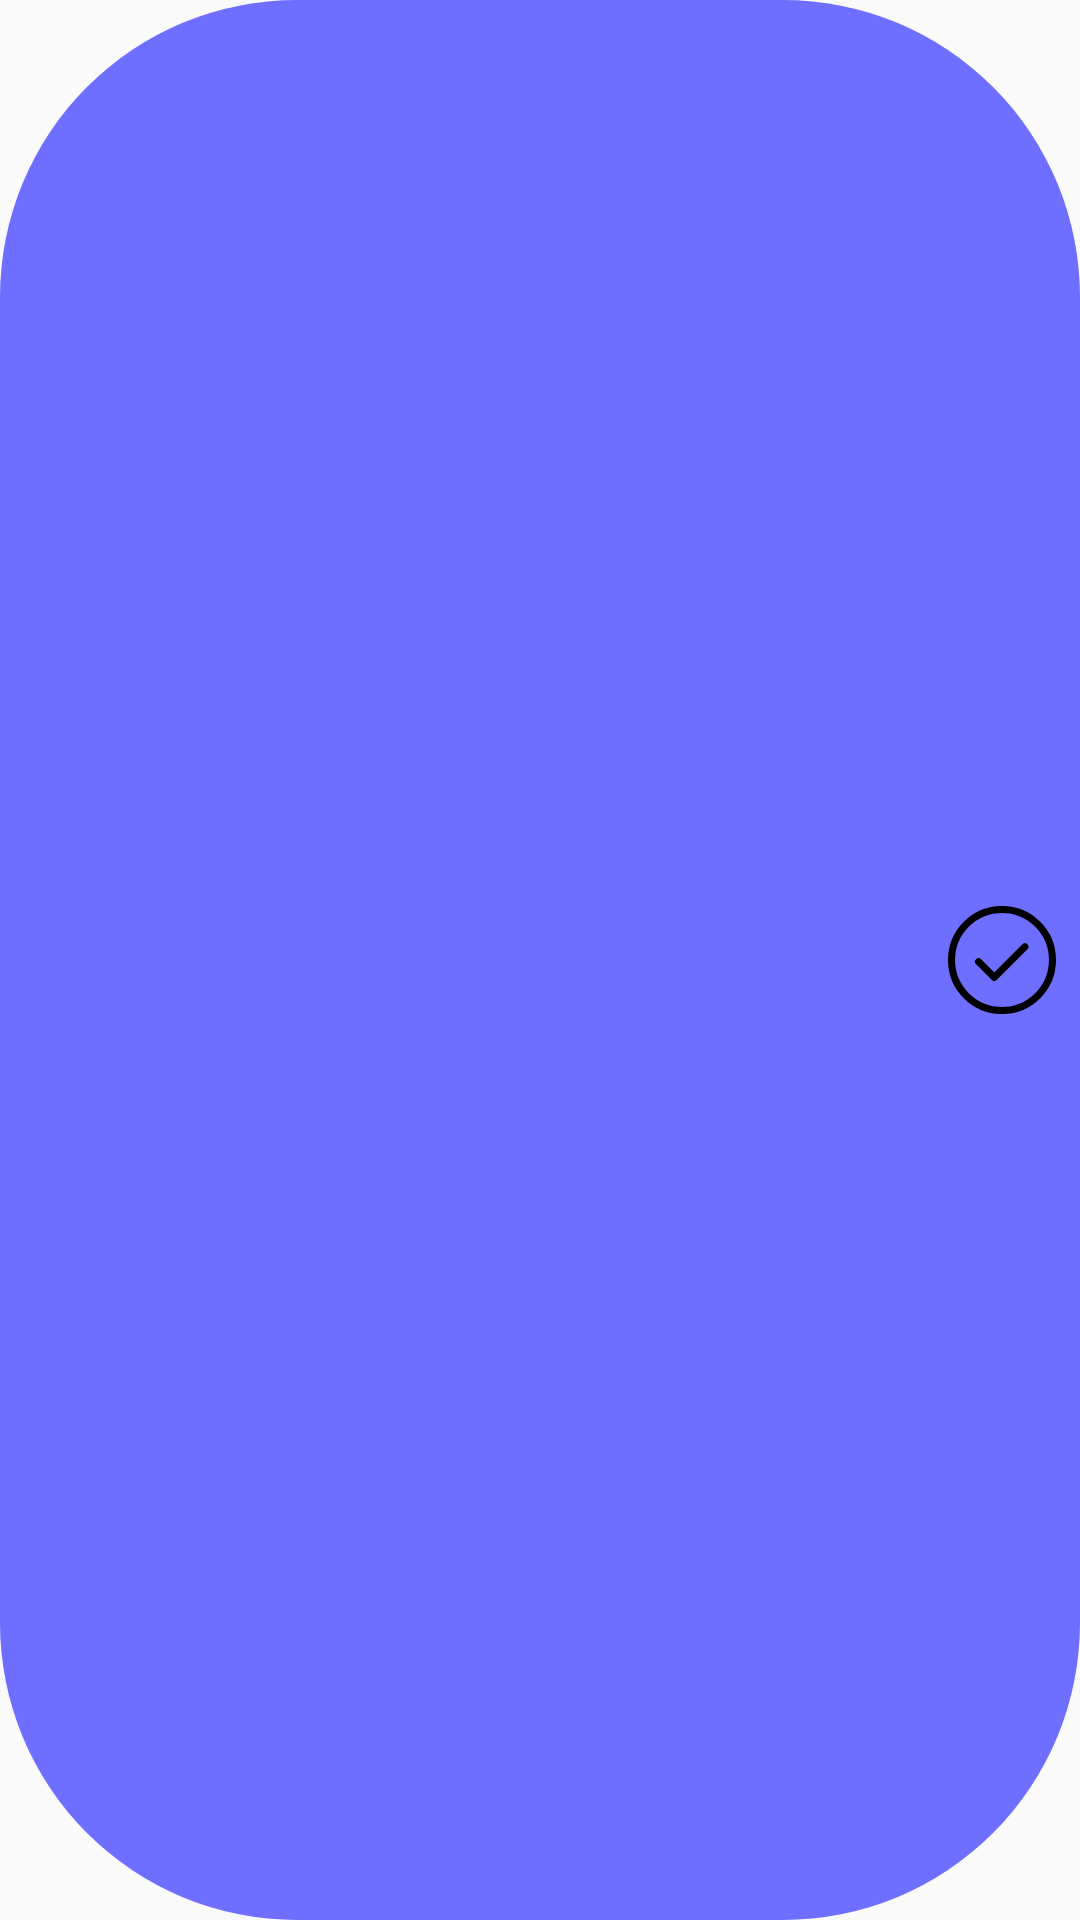

Icon bounding boxes for this 1080 × 1920 phone screenshot, format region(x1, y1, x2, y2):
done: region(948, 906, 1056, 1014)
